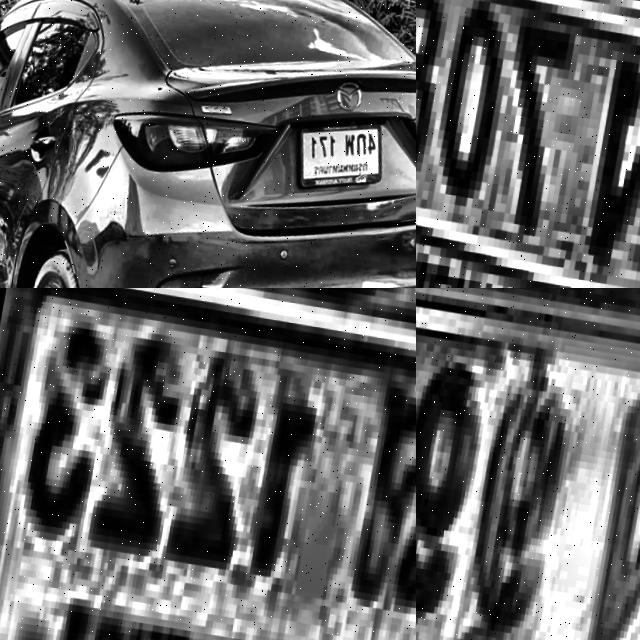license-plate: (0, 288, 416, 640), (416, 288, 640, 640), (416, 0, 640, 288), (288, 101, 396, 201)
